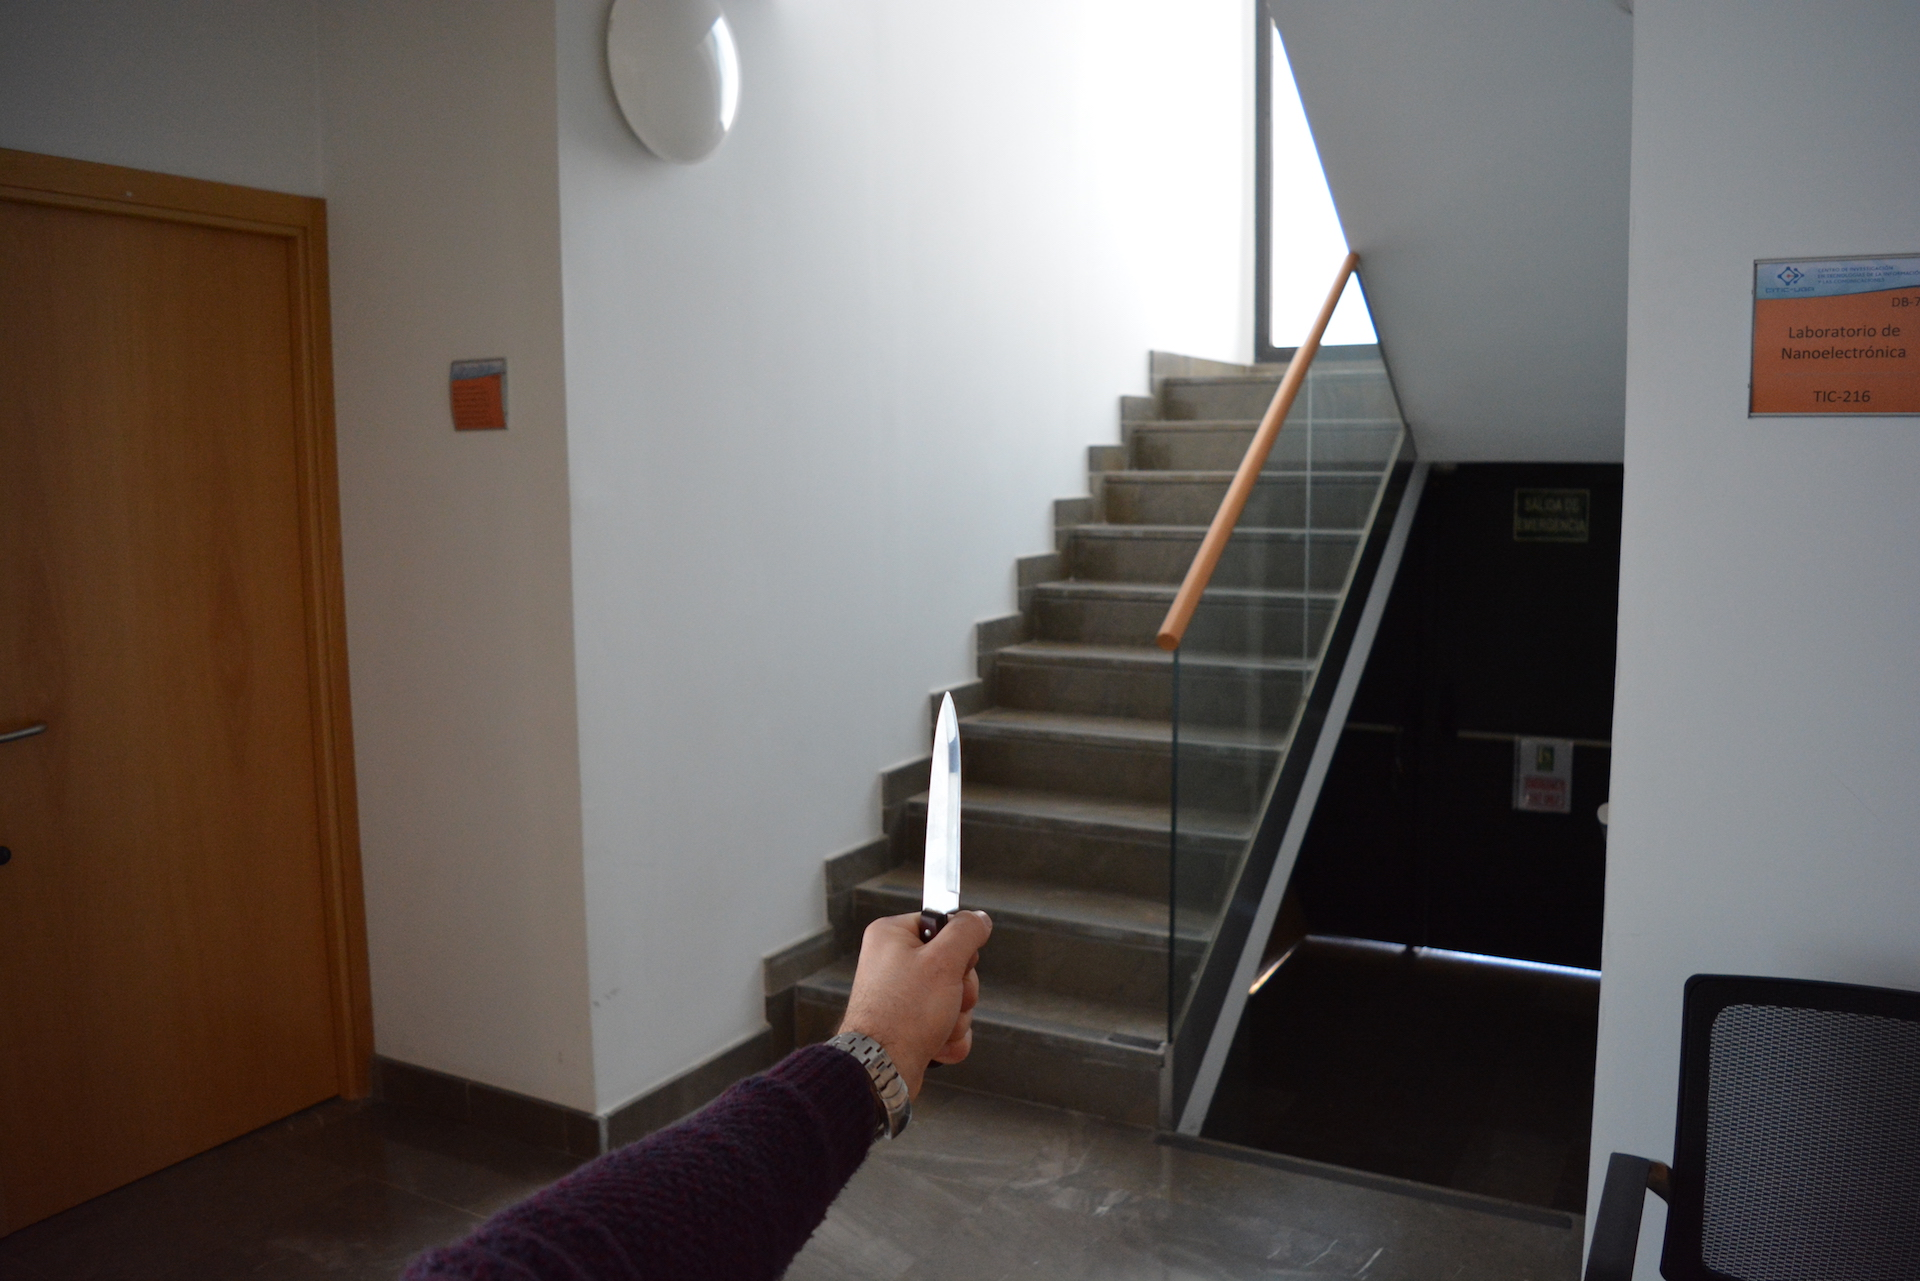knife: (885, 676, 998, 961)
